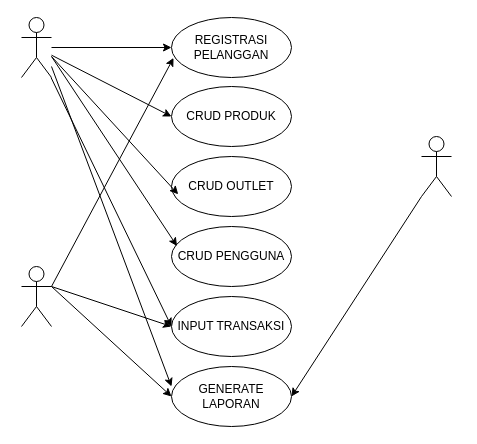
Image size: 477x444. Some labels were removed from this diagram. Here are the shapes that lost their labels. From the top down, the box of each, then its label:
(20, 16, 52, 78): ADMIN
(420, 136, 452, 196): OWNER
(20, 266, 52, 326): KASIR
